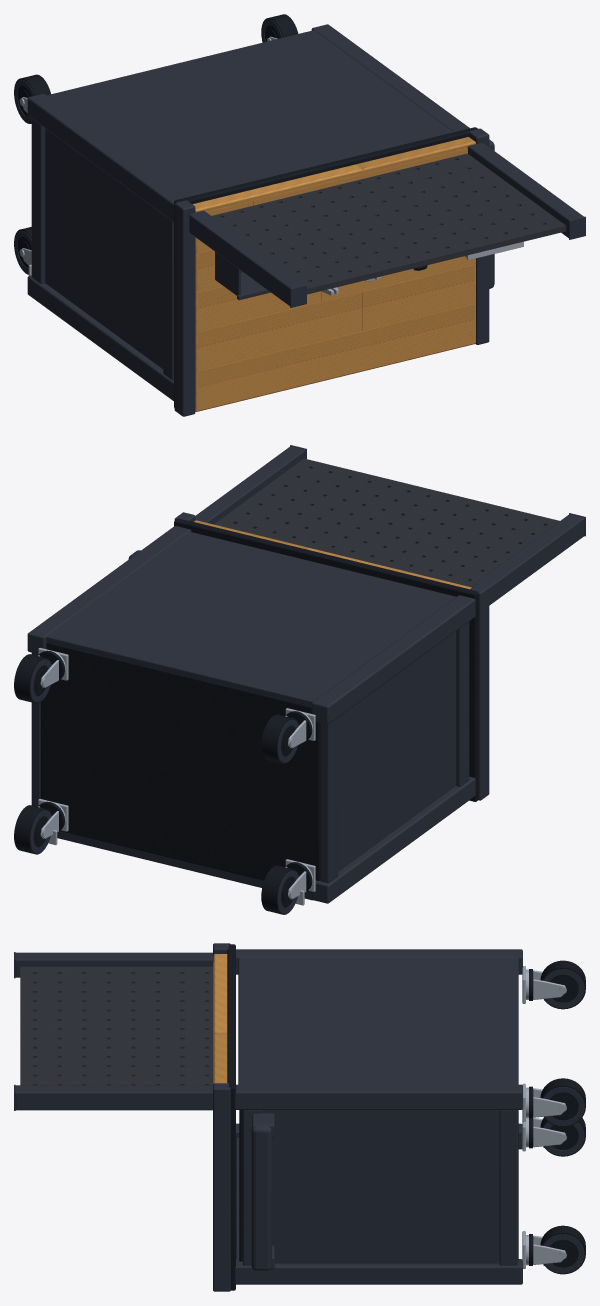
Rendered from tool-cabinet.glb.
3 views of the same model, one above another, from view 1: azimuth 30°, elevation 25°; view 2: azimuth 150°, elevation 25°; view 3: azimuth 270°, elevation 25° (orthographic). The views are drawn at different scales.
Parts seen in each view (by area): view 1: Graphite, Honey_Beech, Textured_BuildPlate, Mechanics, Machined_Aluminium; view 2: Graphite, Mechanics, Textured_BuildPlate, Machined_Aluminium, Honey_Beech; view 3: Graphite, Textured_BuildPlate, Mechanics, Machined_Aluminium, Honey_Beech.
Boxes of the visible parts, <box> form: Graphite: <box>14,19,585,416</box>; Honey_Beech: <box>193,137,475,411</box>; Textured_BuildPlate: <box>212,153,566,294</box>; Mechanics: <box>14,14,477,407</box>; Machined_Aluminium: <box>19,36,523,295</box>; Graphite: <box>27,445,585,913</box>; Mechanics: <box>14,518,478,914</box>; Textured_BuildPlate: <box>214,458,559,586</box>; Machined_Aluminium: <box>38,648,315,905</box>; Honey_Beech: <box>194,520,471,589</box>; Graphite: <box>14,943,584,1291</box>; Textured_BuildPlate: <box>20,966,213,1085</box>; Mechanics: <box>227,944,585,1290</box>; Machined_Aluminium: <box>522,966,566,1268</box>; Honey_Beech: <box>213,954,227,1083</box>.
Bounding box in the file's own units: 0.886 × 0.557 × 1.35.
Materials: 6 (4 with a texture image).
